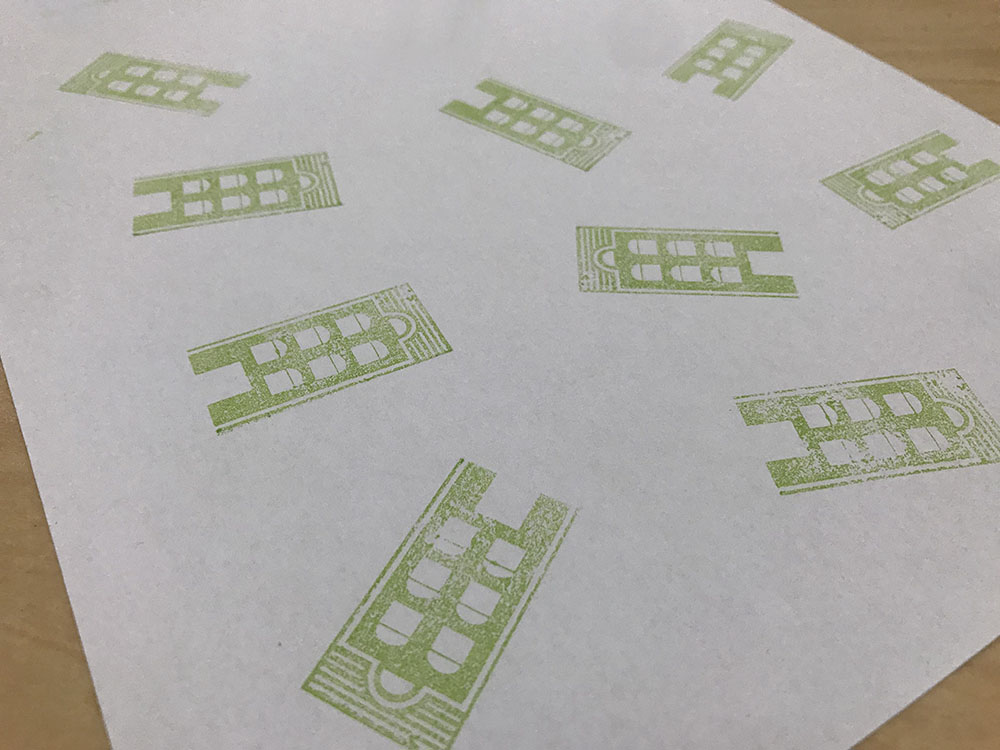build: (258, 437, 617, 750), (165, 278, 487, 444), (705, 343, 1000, 521), (426, 64, 651, 193), (812, 115, 994, 251), (114, 149, 353, 243), (569, 218, 810, 307), (44, 41, 265, 134), (641, 12, 816, 115)
